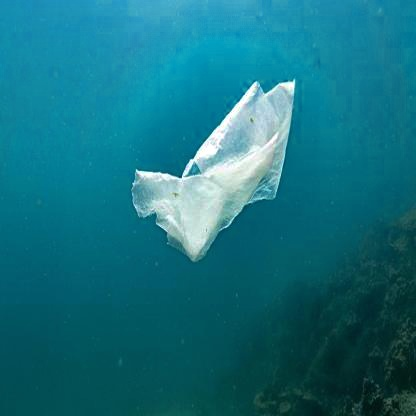pbag: (131, 76, 296, 265)
